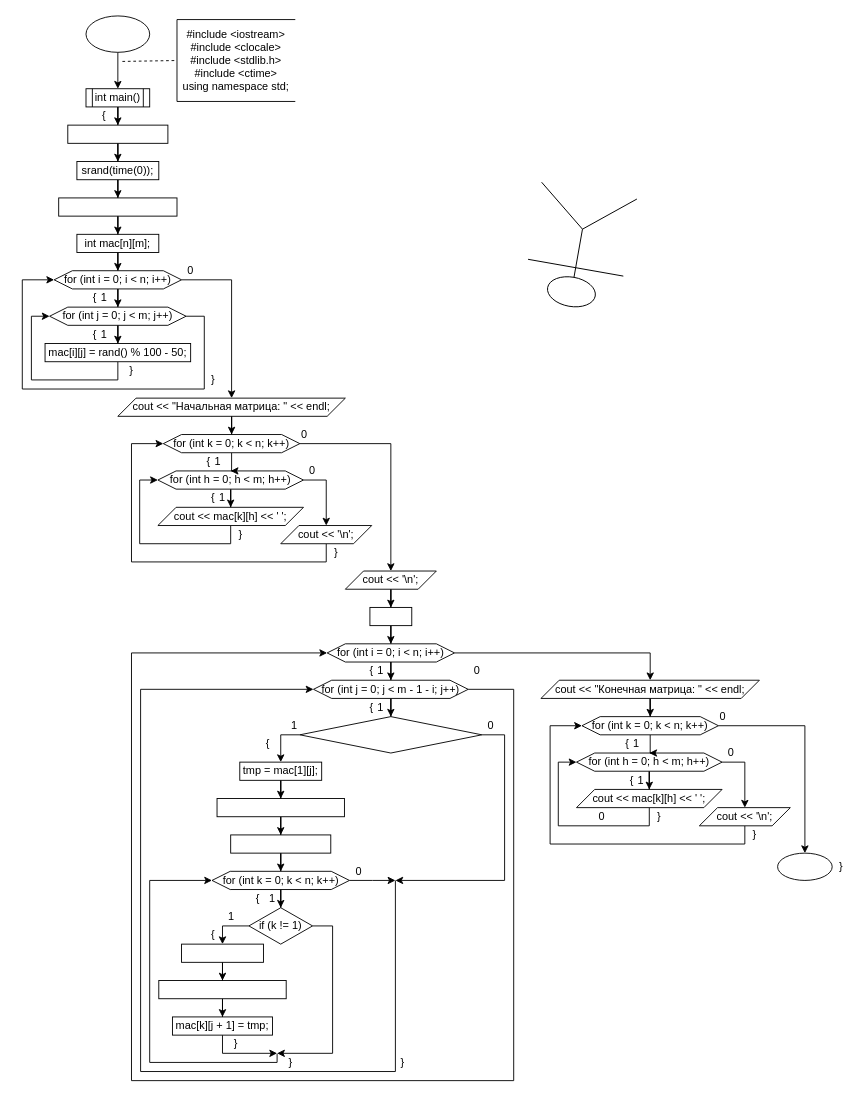
This 866x1104 diagram has some shape labels left out. Here are the shapes that lost their labels. From the top down, the centre of each, then its label:
[117,33]: Начало
[117,133]: setlocale(0, "rus");
[117,206]: const int n = 4, m = 5;
[578,248]: Actor
[390,616]: int tmp;
[390,734]: if (mac[1][j] > mac[1][j + 1])
[280,807]: mac[1][j] = mac[1][j + 1];
[280,843]: mac[1][j + 1] = tmp;
[804,866]: return 0;
[222,952]: tmp = mac[k][j];
[222,989]: mac[k][j] = mac[k][j + 1];
